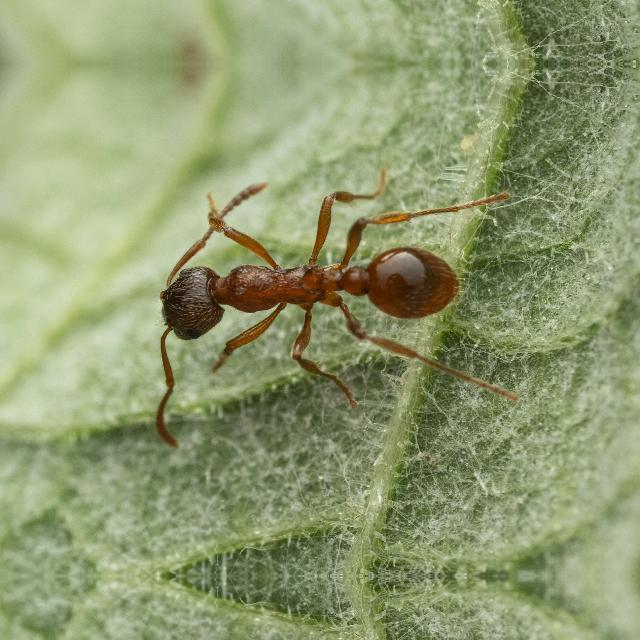Myrmica: (130, 186, 506, 400)
